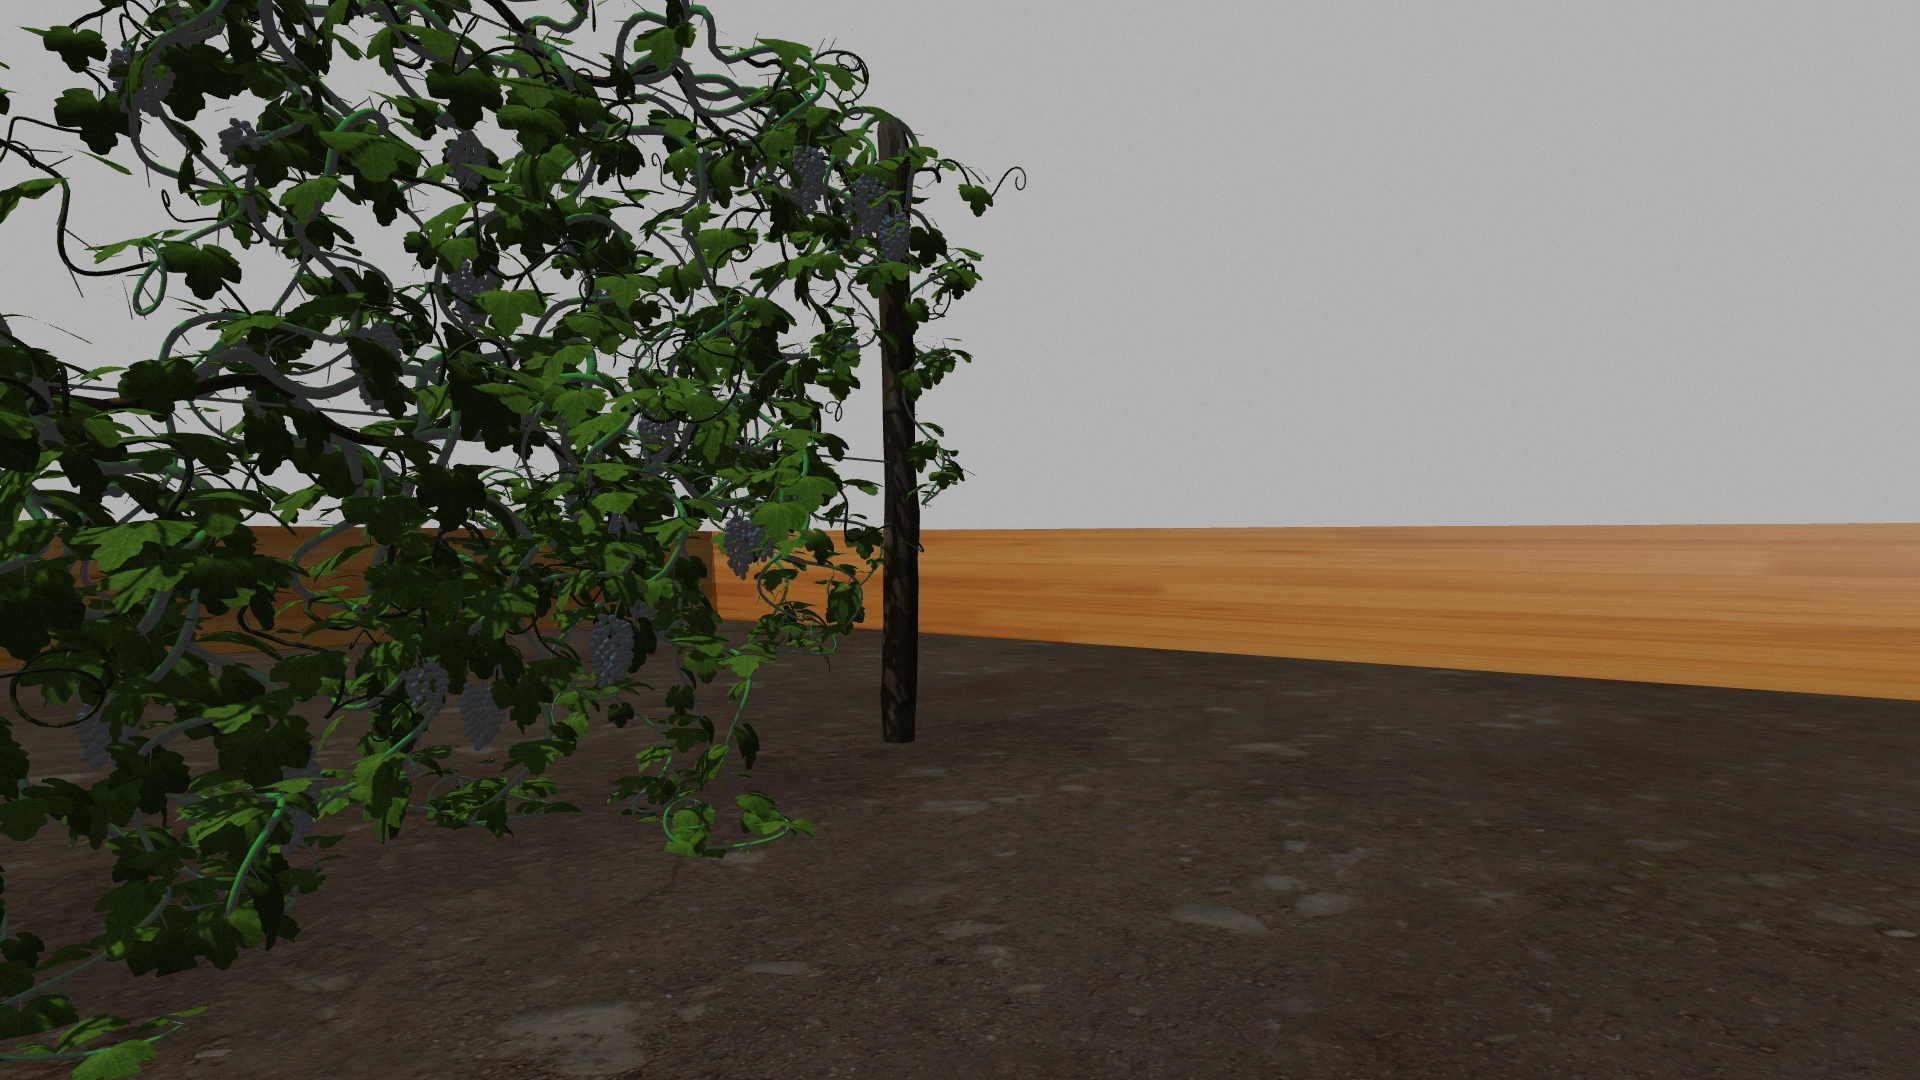grape: (73, 691, 142, 769), (108, 46, 175, 113), (448, 262, 504, 328), (458, 678, 506, 752), (589, 613, 636, 688), (216, 116, 270, 162), (405, 661, 448, 716), (791, 145, 825, 215), (855, 173, 891, 237), (446, 131, 487, 189), (640, 407, 678, 465), (723, 516, 754, 582), (877, 212, 911, 262)
